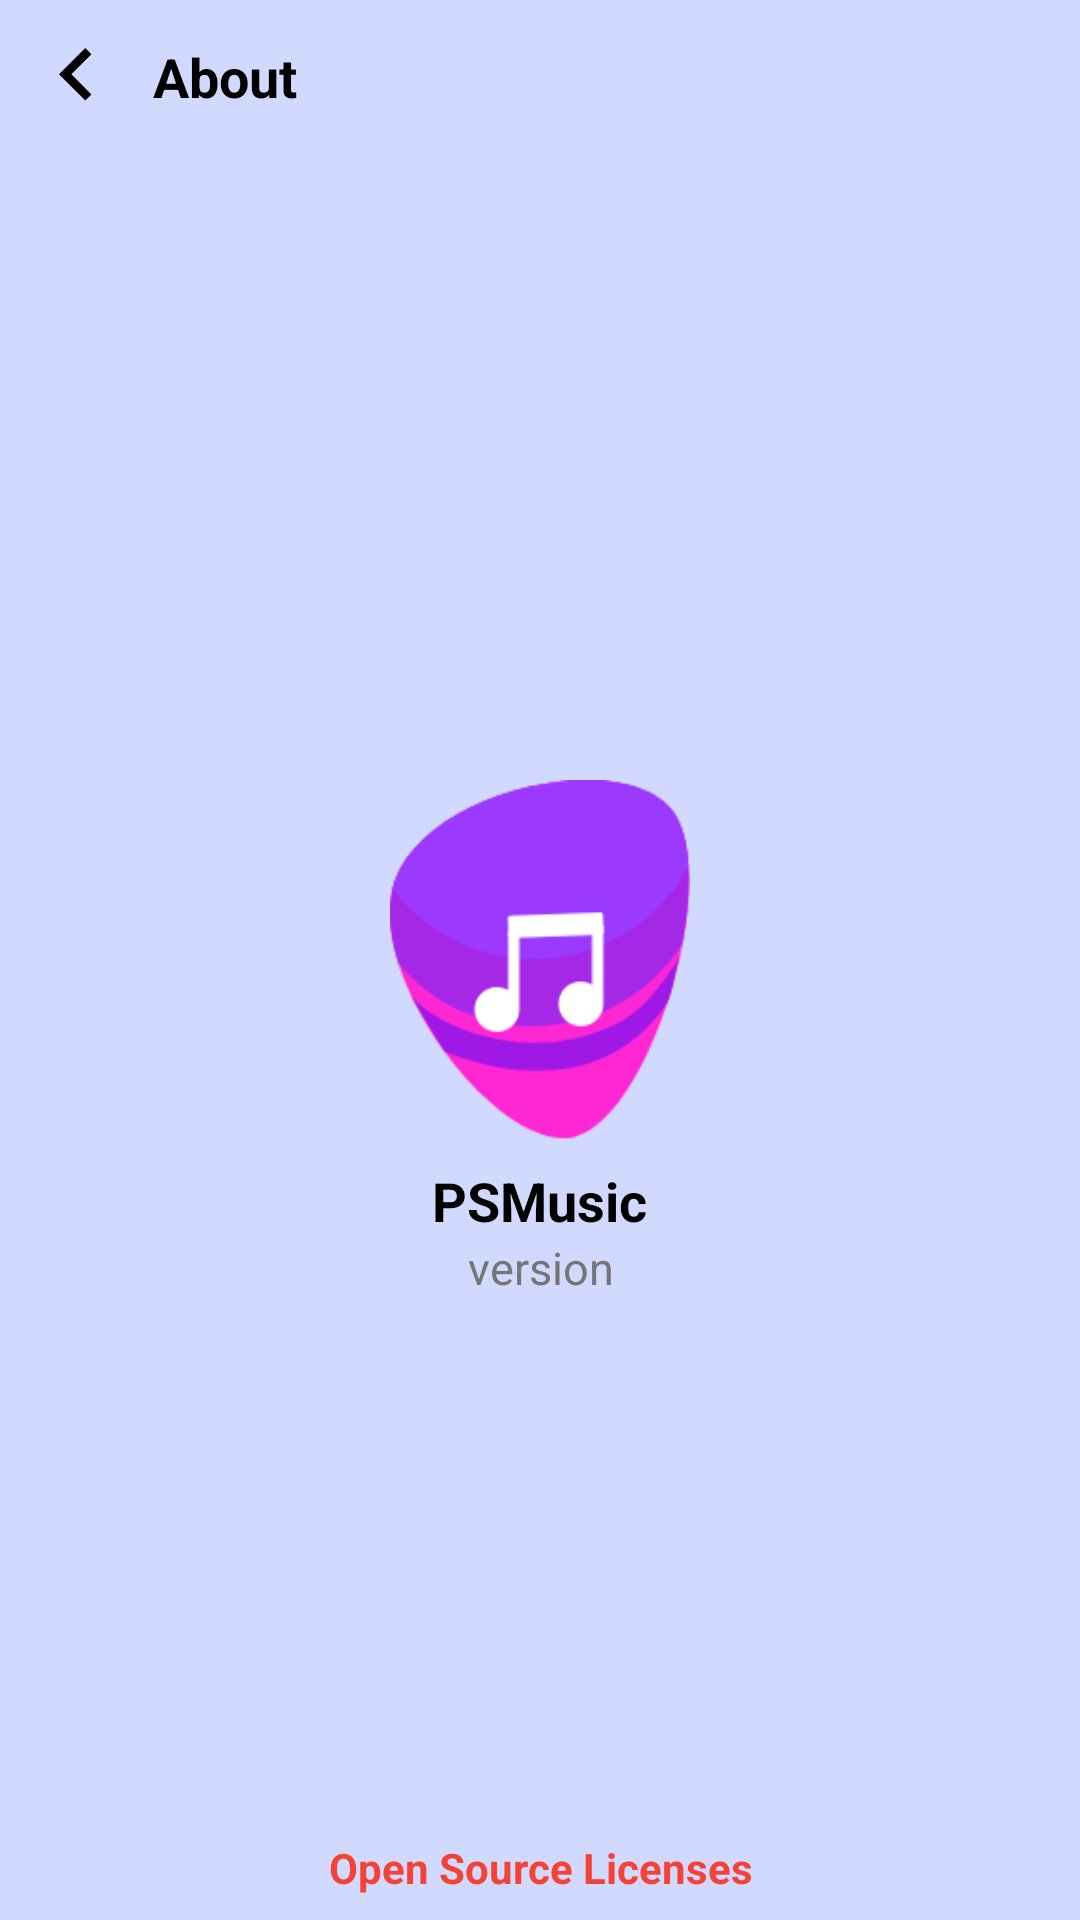

Point at icon controls on the screen. Image size 1080×1920, points as (x=x, y=y).
back arrow: (x=75, y=74)
